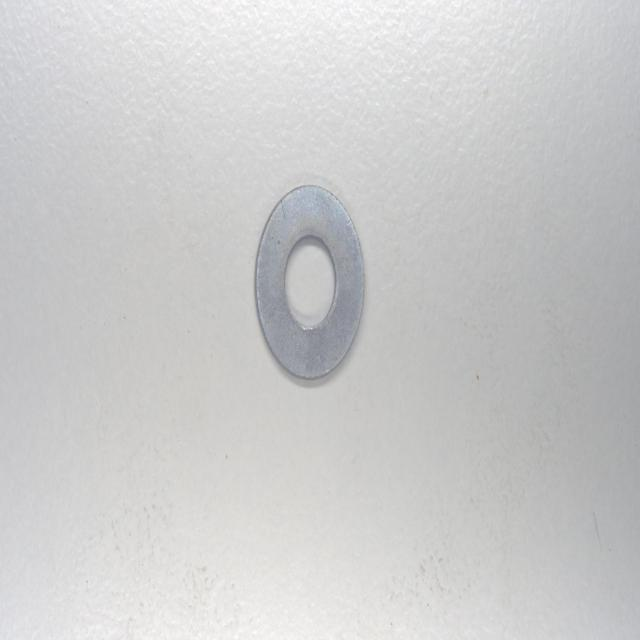washer: (252, 185, 369, 389)
